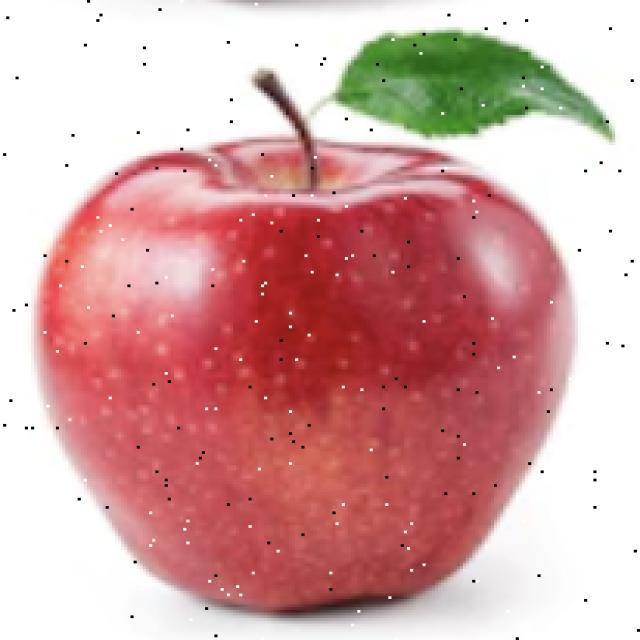Fresh Apple: (46, 135, 566, 640)
